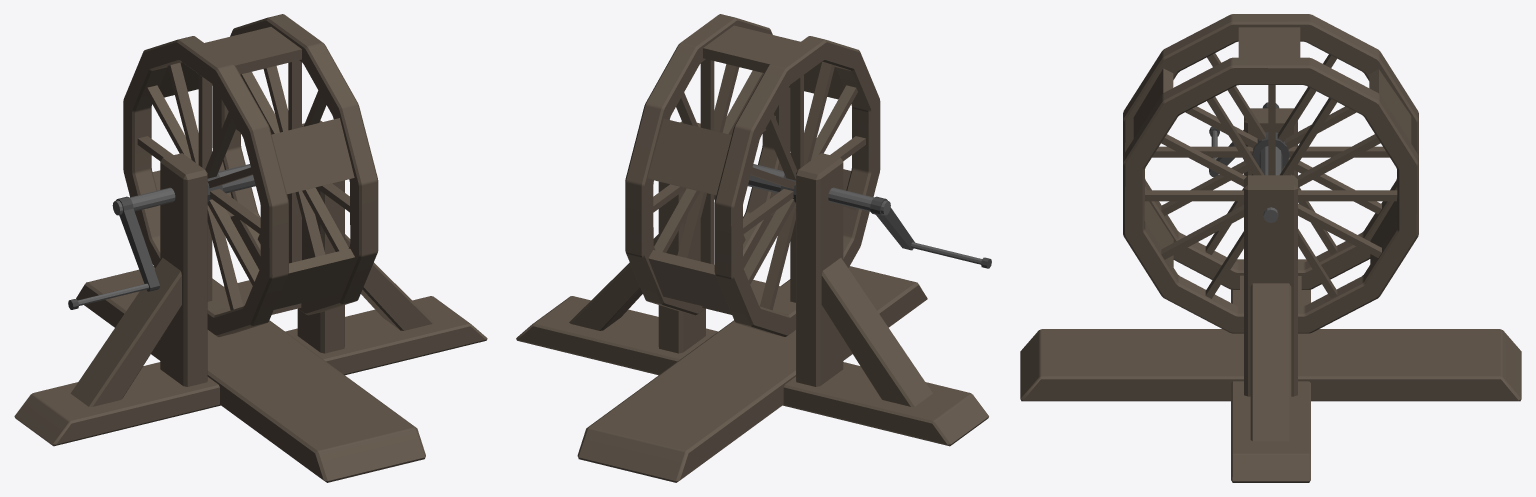
File: Rueda de la tortura.fbx
3 views of the same model, side by side, from view 1: azimuth 30°, elevation 25°; view 2: azimuth 150°, elevation 25°; view 3: azimuth 270°, elevation 25° (orthographic).
Parts seen in each view (by area): view 1: Esc_Rueda1:polySurface91; view 2: Esc_Rueda1:polySurface91; view 3: Esc_Rueda1:polySurface91.
Part boxes in pixels (x1=…): Esc_Rueda1:polySurface91: x1=14, y1=14, x2=487, y2=482; Esc_Rueda1:polySurface91: x1=516, y1=14, x2=991, y2=482; Esc_Rueda1:polySurface91: x1=1020, y1=14, x2=1521, y2=482.
Bounding box in the file's own units: 666 × 495 × 666.
